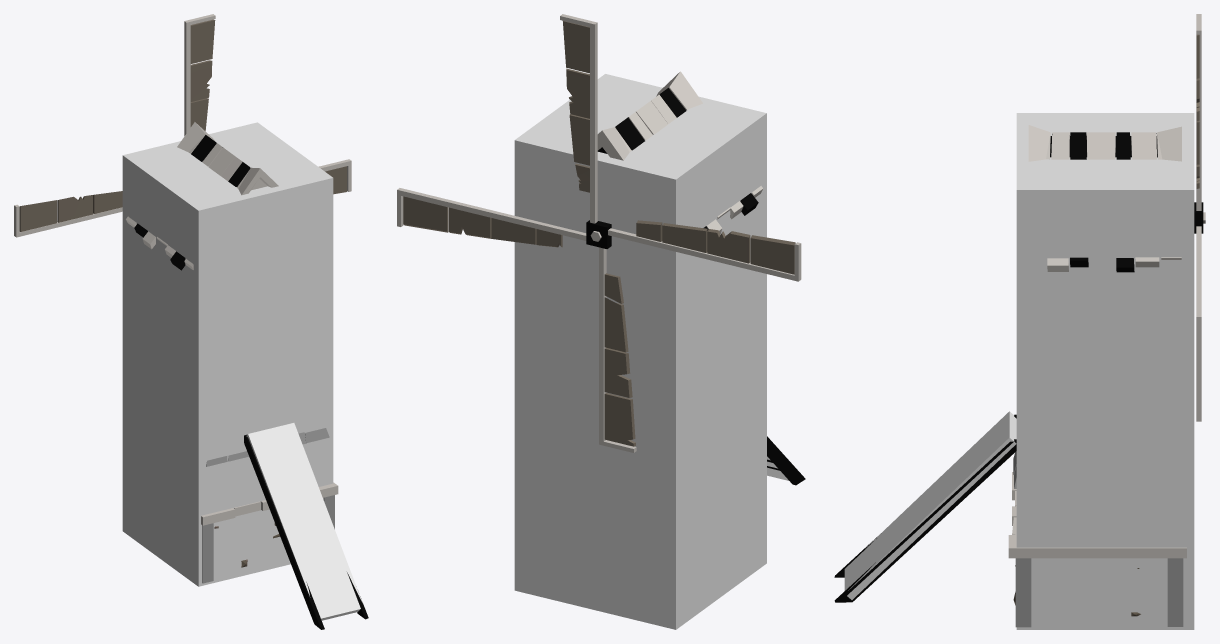
The model's file is mill.glb.
3 renders of one model, left to right at view 1: azimuth 30°, elevation 25°; view 2: azimuth 150°, elevation 25°; view 3: azimuth 270°, elevation 25°, orthographic. The views are drawn at different scales.
Visible parts, largest first — view 1: Cube.003, MELL, Cube.001; view 2: Cube.003, MELL; view 3: Cube.003, MELL, Cube.001.
Boxes of the visible parts, left/top/right/bottom form: Cube.003: left=122, top=122, right=333, bottom=586; MELL: left=14, top=14, right=368, bottom=629; Cube.001: left=246, top=423, right=362, bottom=620; Cube.003: left=514, top=74, right=766, bottom=629; MELL: left=397, top=14, right=805, bottom=485; Cube.003: left=1016, top=113, right=1194, bottom=629; MELL: left=834, top=14, right=1205, bottom=627; Cube.001: left=844, top=411, right=1016, bottom=599.
Bounding box in the file's own units: 8.25 × 11.58 × 6.76.
1 material, 1 textured.
